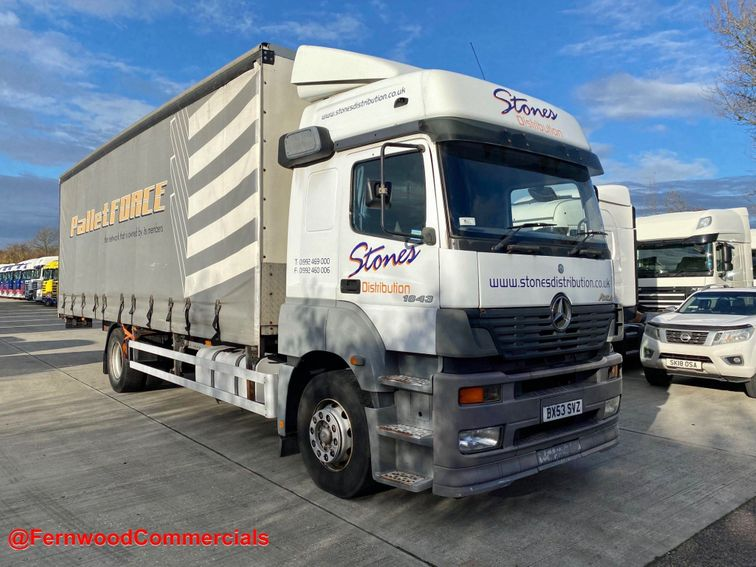Car: (639, 286, 755, 397)
Semi: (58, 40, 622, 501)
